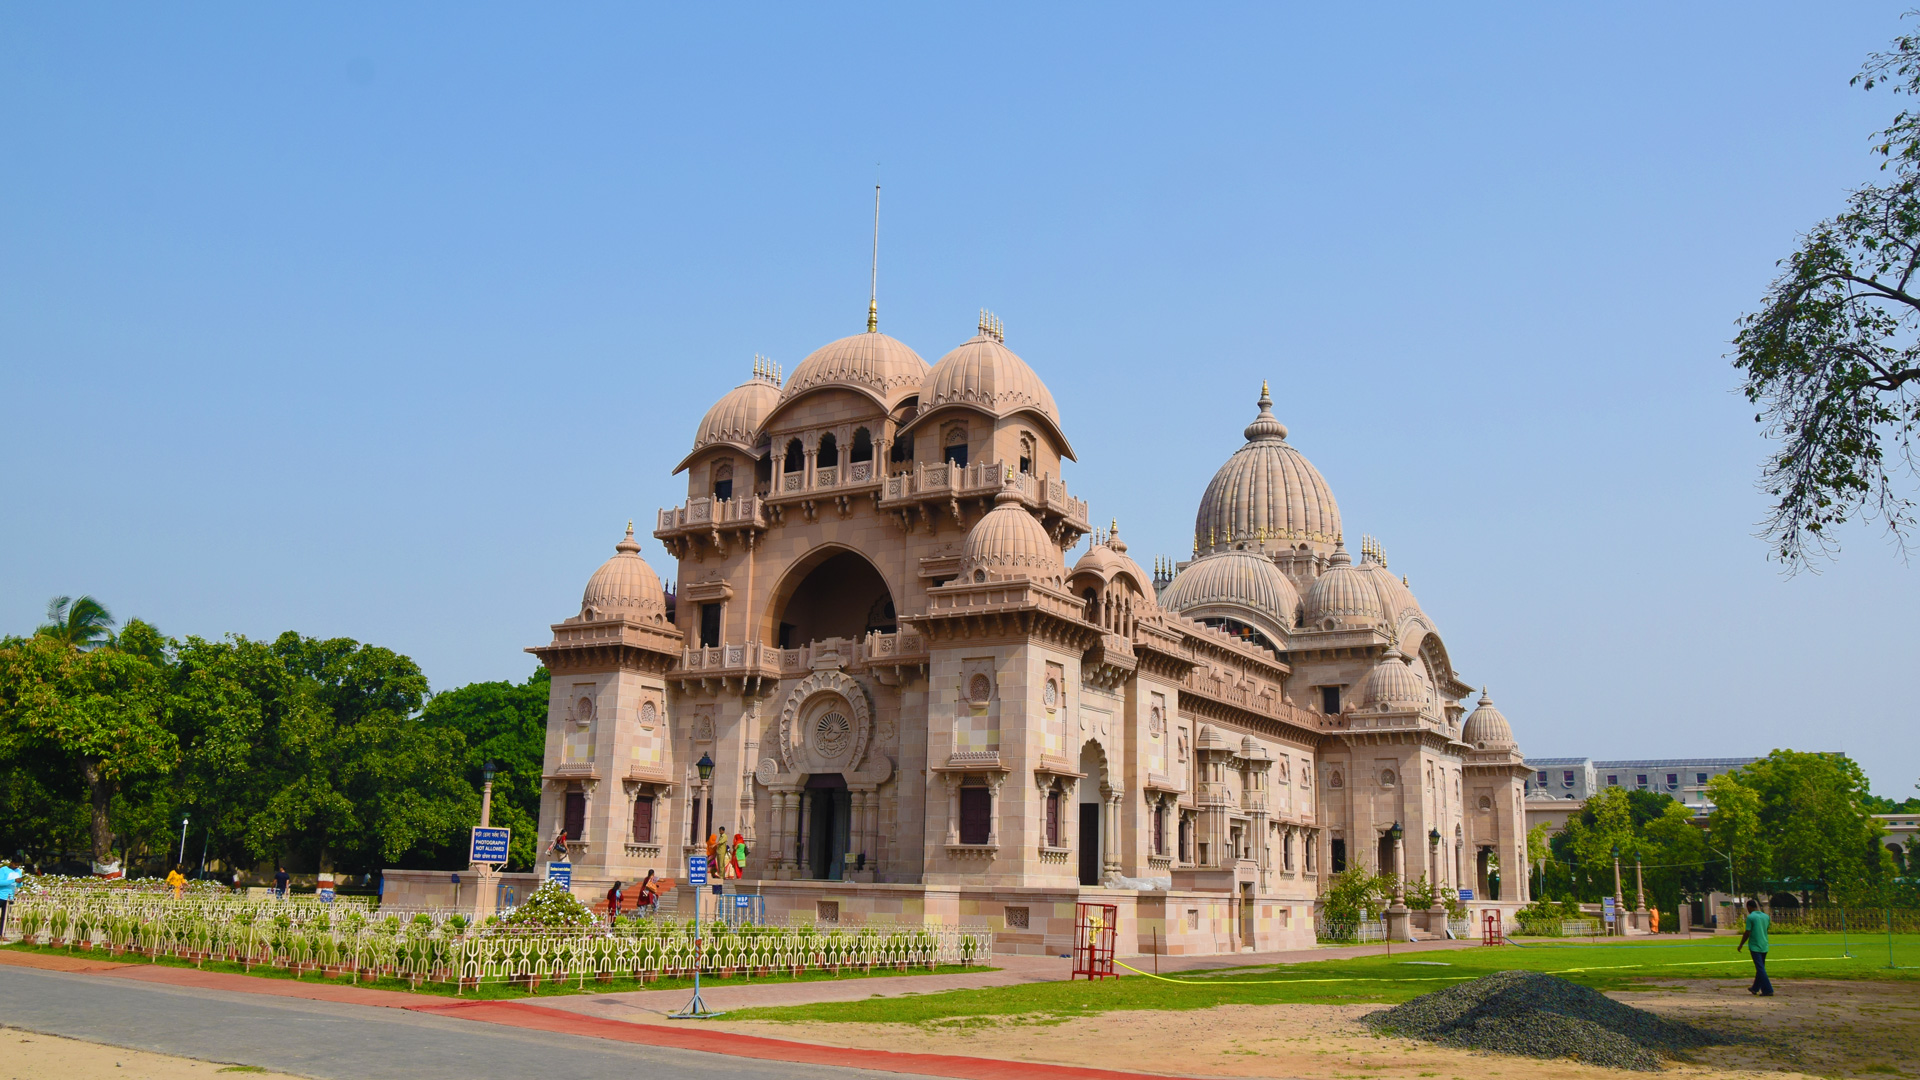Temple: (501, 309, 1535, 951)
